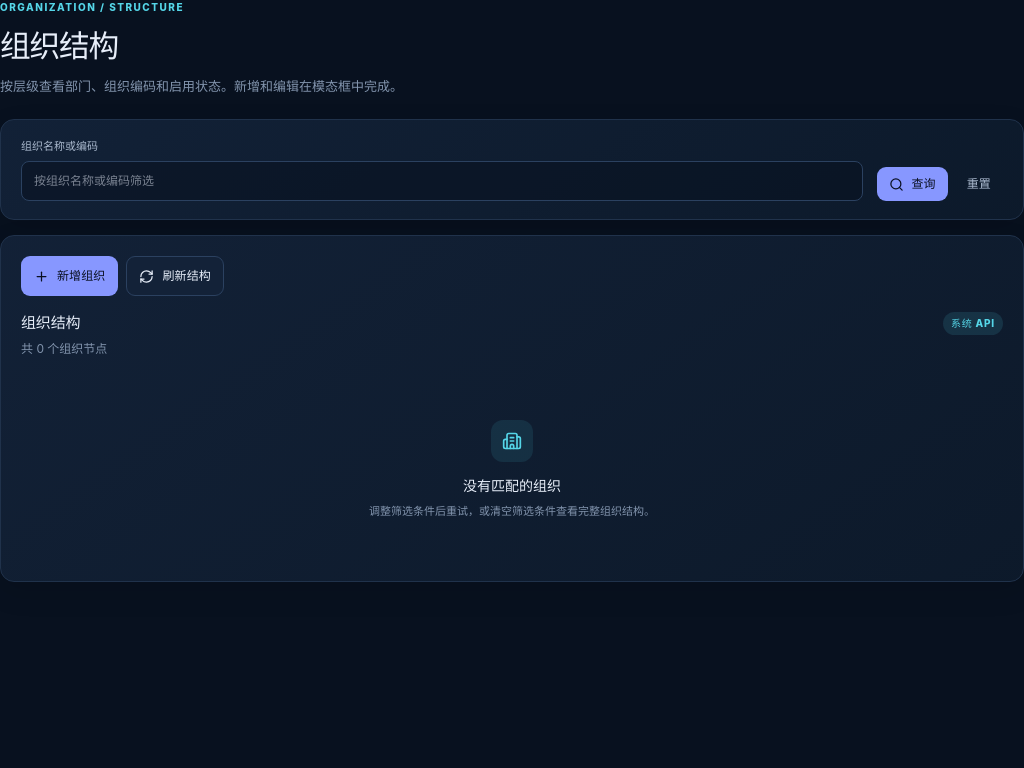
Scenario: DepartmentsPage › 组织保存失败时显示业务码诊断并保留表单
Expected: the text "没有匹配的组织" is shown, [463,475,561,496]
Click the button "新增组织".
click(70, 276)  # box [21,256,118,296]
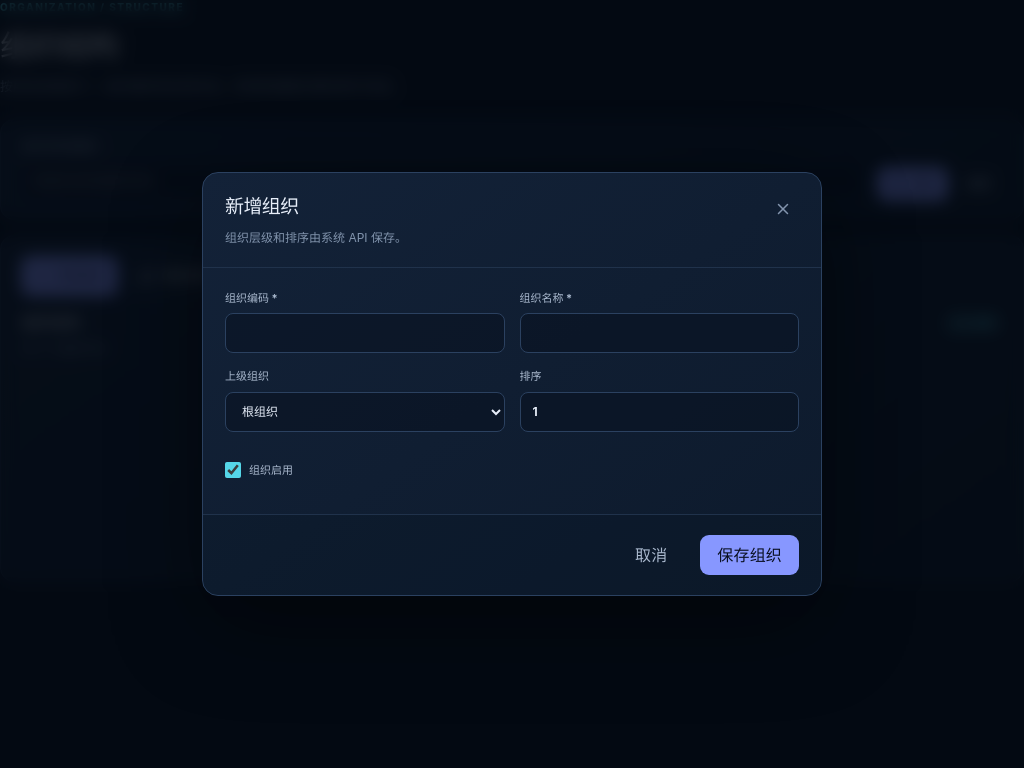
Type "OPS" into the field labelled "组织编码 *".
click(365, 333); type("OPS")  # box [225,313,504,353]
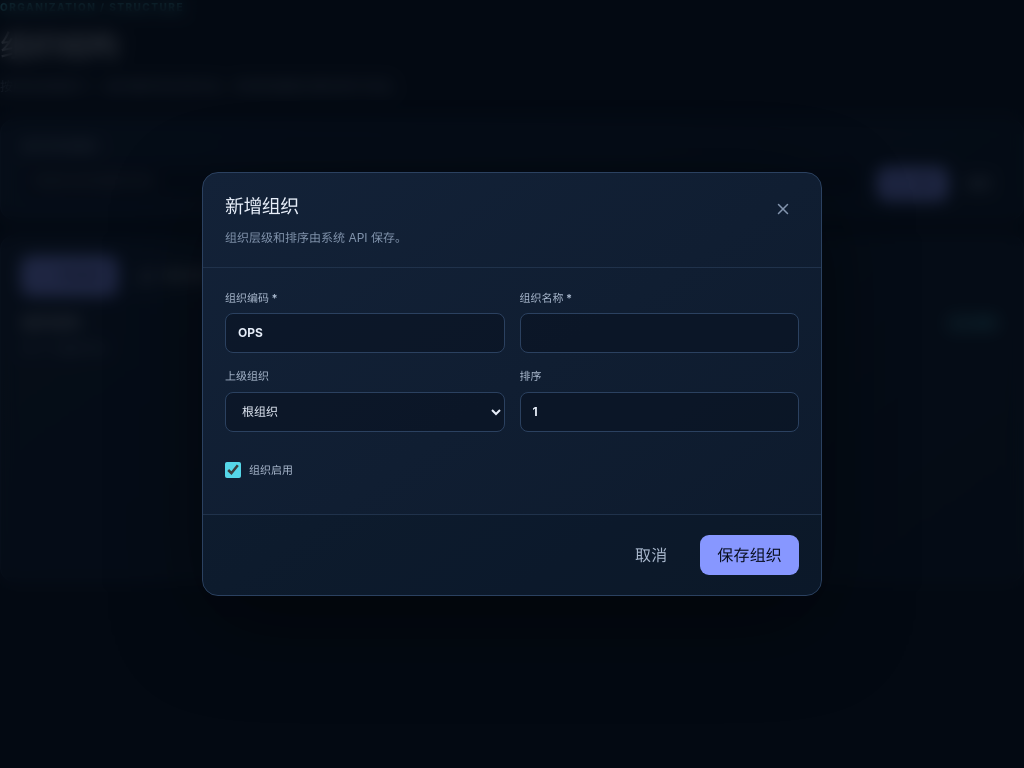
Type "运营部" into the field labelled "组织名称 *".
click(659, 333); type("运营部")  # box [520,313,799,353]
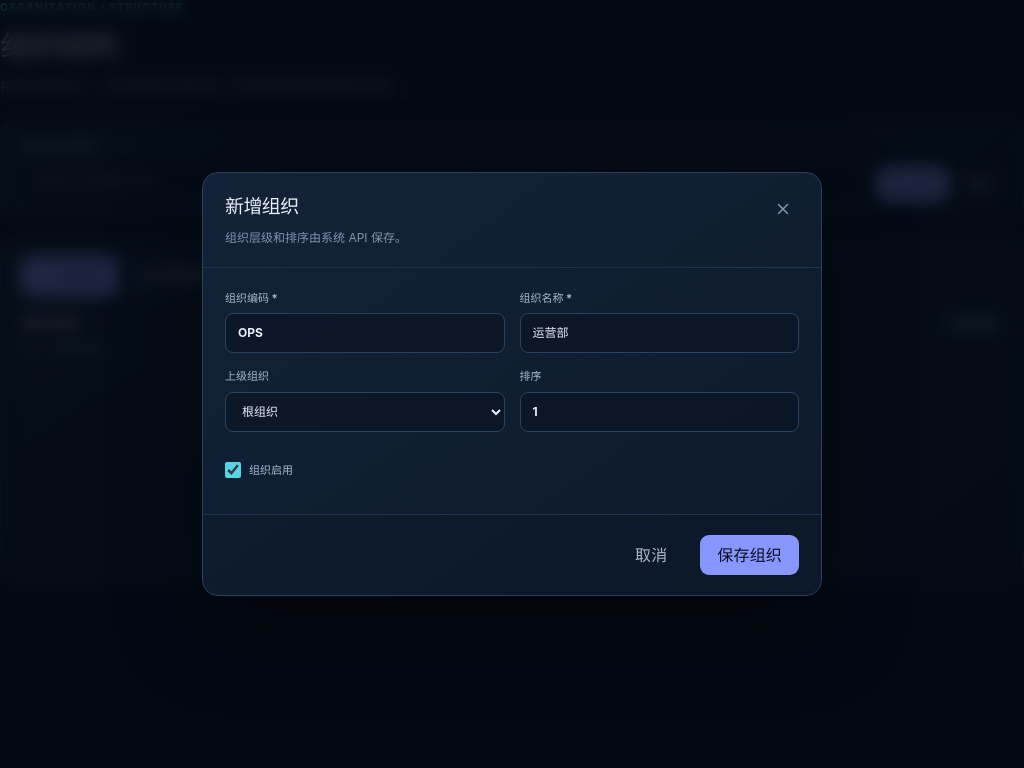
Click the button "保存组织".
click(750, 555)  # box [700,535,799,575]
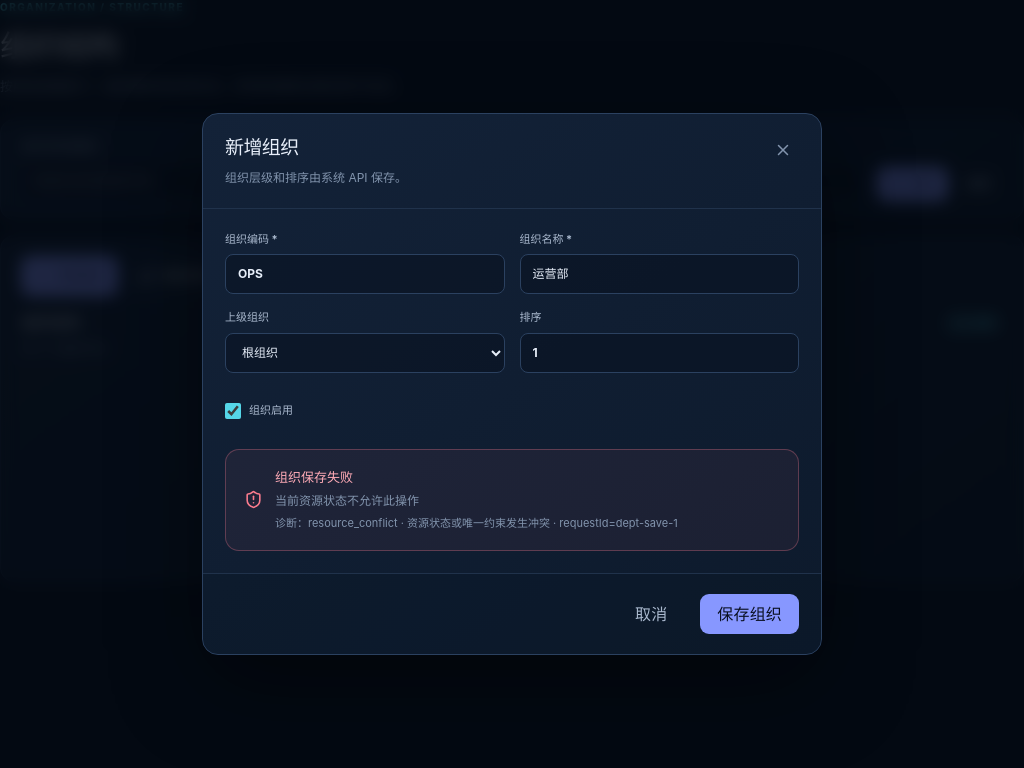
Expected: the text "诊断：resource_conflict · 资源状态或唯一约束发生冲突 · requestId=dept-save-1" is shown, [275,516,678,530]
